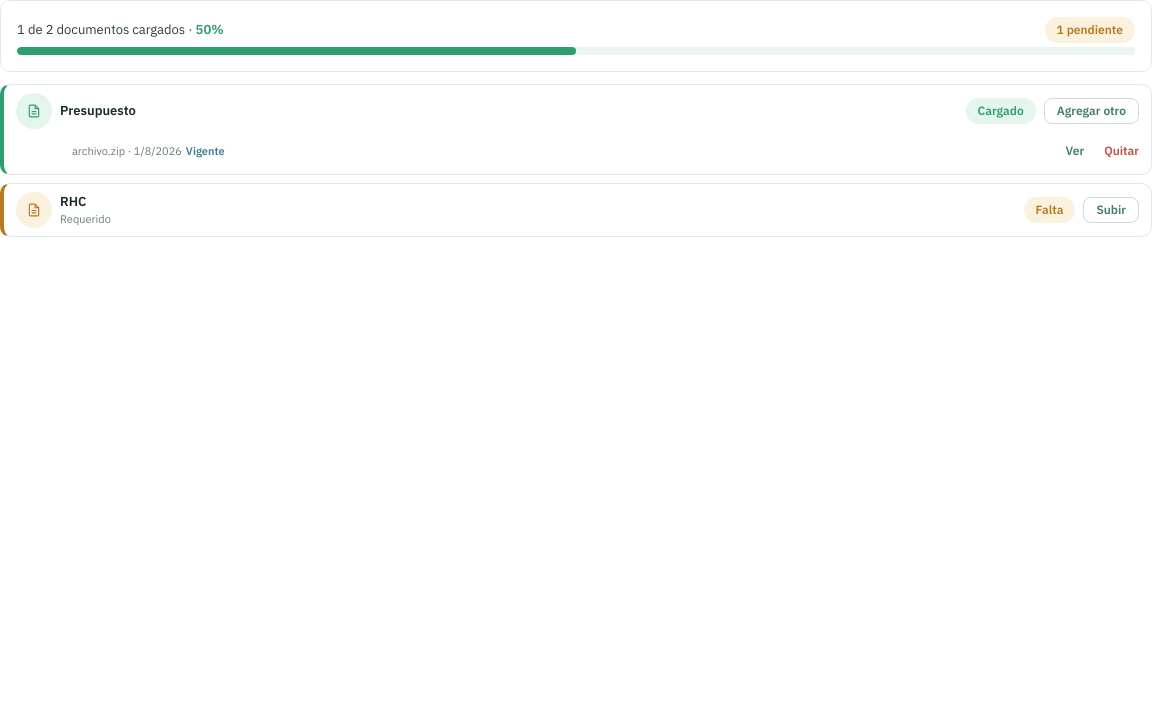
Test: DocumentChecklist — contenido de la previsualización según tipoMime (tasks.md 5.4, design.md Checkpoint (e)) › tipo no soportado (ej. zip) tiene URL válida igual, así que "Descargar" aparece ahí también
This screenshot has width=1152, height=720.
Step 1. Click the button with aria-label "ver presupuesto - archivo.zip" → (1075, 151), box [1066,143,1084,159]
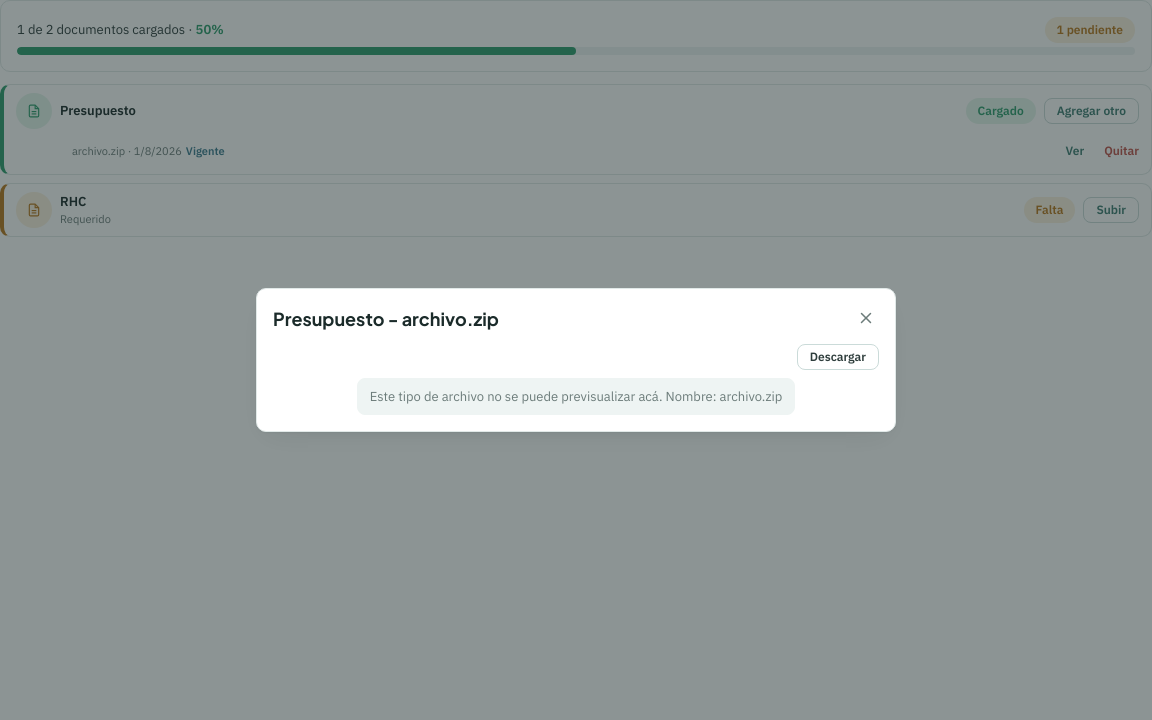
Now the text "no se puede previsualizar" is shown, box [370,388,720,405]
